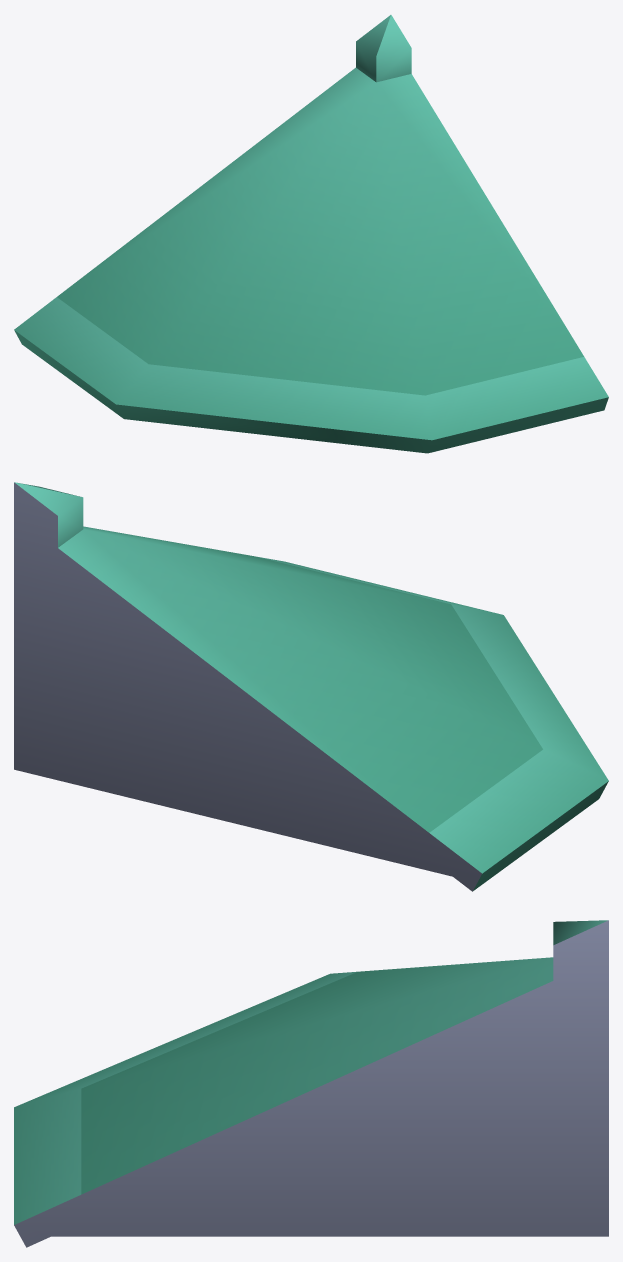
The model's file is roof-corner-round.glb.
3 views of the same model, one above another, from view 1: azimuth 30°, elevation 25°; view 2: azimuth 150°, elevation 25°; view 3: azimuth 270°, elevation 25° (orthographic). The views are drawn at different scales.
Parts seen in each view (by area): view 1: roof-corner-round; view 2: roof-corner-round; view 3: roof-corner-round.
Boxes of the visible parts, x1,y1,x2,y2 form: roof-corner-round: (14, 15, 608, 453); roof-corner-round: (14, 482, 608, 891); roof-corner-round: (14, 920, 608, 1247).
Bounding box in the file's own units: 1.07 × 0.6483 × 1.07.
Materials: 1 (1 with a texture image).
